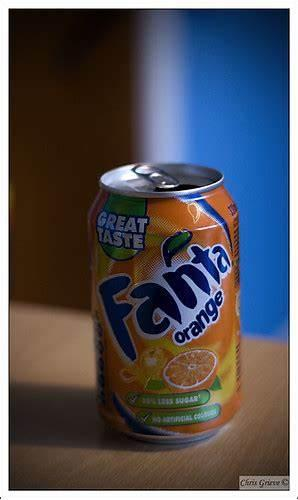metal: (89, 164, 241, 443)
